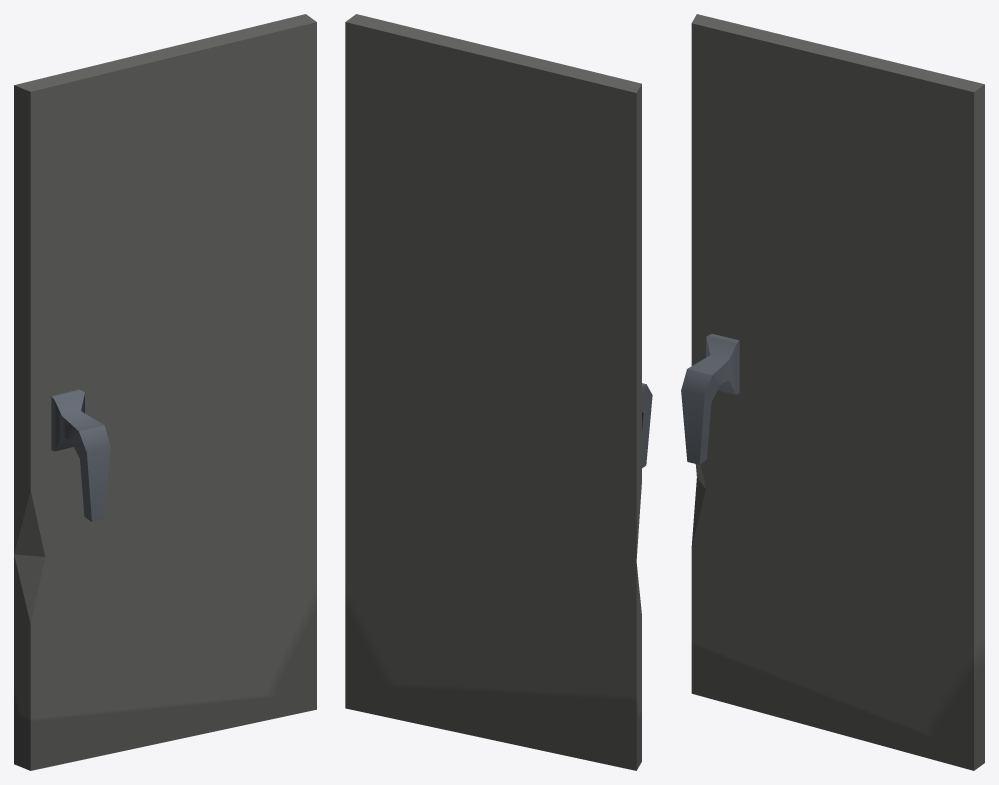
Rendered from SM_Prop_Cabinet_Small_Door_02.glb.
3 renders of one model, left to right at view 1: azimuth 30°, elevation 25°; view 2: azimuth 150°, elevation 25°; view 3: azimuth 330°, elevation 25°, orthographic.
Visible parts, largest first — view 1: SM_Prop_Cabinet_Small_Door_02; view 2: SM_Prop_Cabinet_Small_Door_02; view 3: SM_Prop_Cabinet_Small_Door_02.
Part boxes in pixels (box(x1,y1,x2,y2)): SM_Prop_Cabinet_Small_Door_02: box(14, 14, 316, 770); SM_Prop_Cabinet_Small_Door_02: box(345, 14, 652, 770); SM_Prop_Cabinet_Small_Door_02: box(681, 14, 984, 770).
Bounding box in the file's own units: 0.4937 × 1.11 × 0.1301.
1 material, 1 textured.
